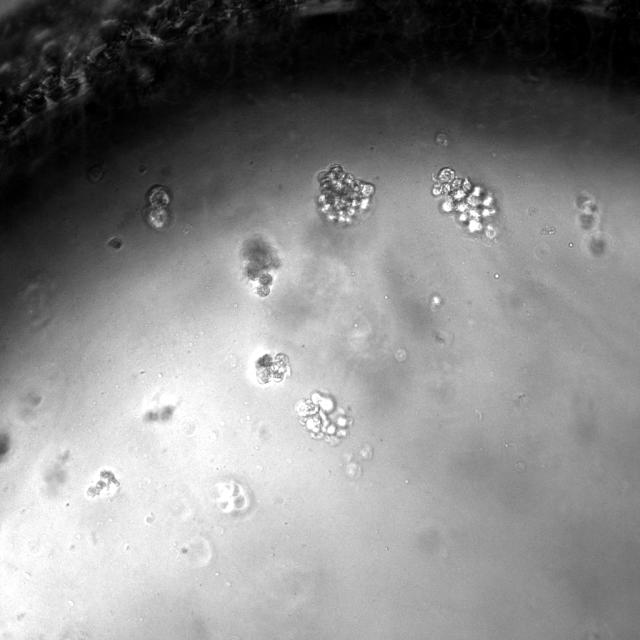organoid: (431, 167, 498, 241), (316, 163, 374, 225), (294, 391, 352, 443), (242, 235, 280, 296), (142, 184, 171, 230), (255, 353, 290, 385)
